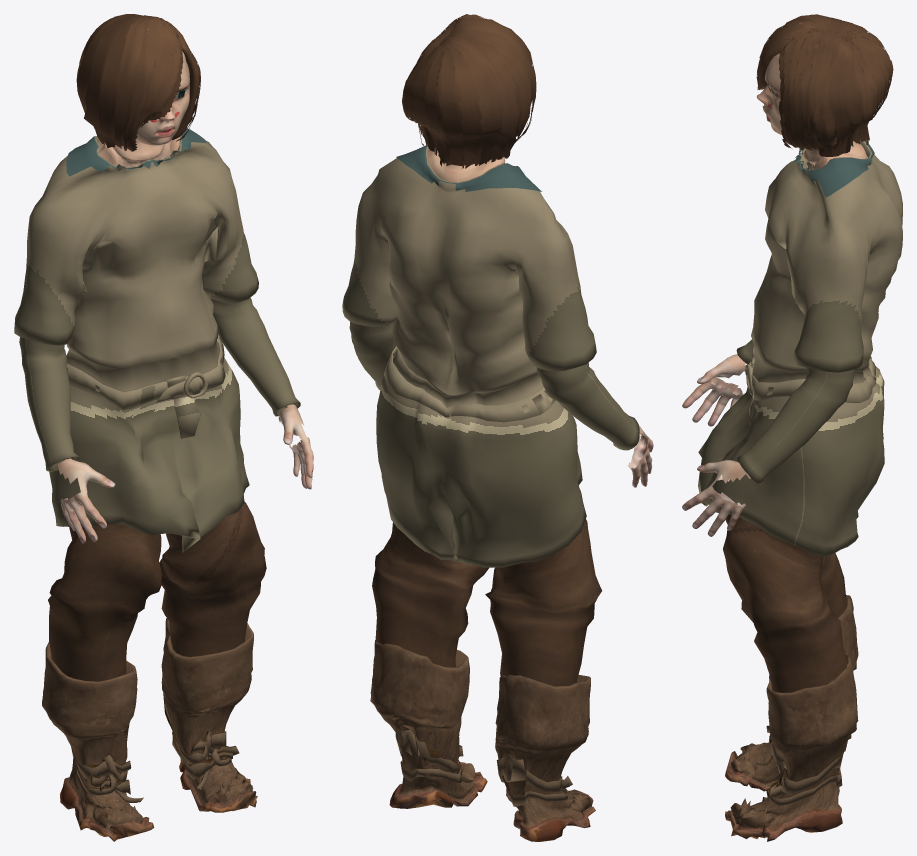
File: ada-work-vest.glb
3 renders of one model, left to right at view 1: azimuth 30°, elevation 25°; view 2: azimuth 150°, elevation 25°; view 3: azimuth 270°, elevation 25°, orthographic. The views are drawn at different scales.
Parts seen in each view (by area): view 1: ada-work-vest runtime mesh; view 2: ada-work-vest runtime mesh; view 3: ada-work-vest runtime mesh.
Part boxes in pixels (bbox=[...]): ada-work-vest runtime mesh: bbox=[14, 14, 313, 841]; ada-work-vest runtime mesh: bbox=[342, 14, 653, 841]; ada-work-vest runtime mesh: bbox=[682, 14, 902, 841].
Bounding box in the file's own units: 0.6252 × 1.85 × 0.4671.
Materials: 9 (7 with a texture image).
